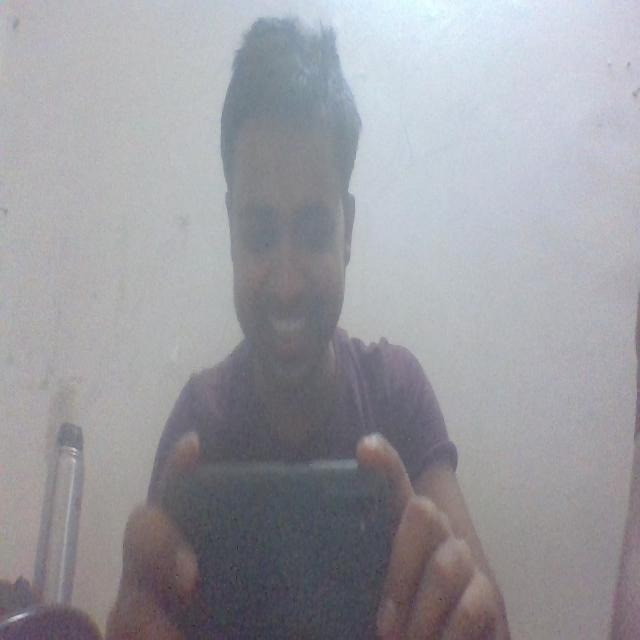Phone: (163, 458, 409, 627)
